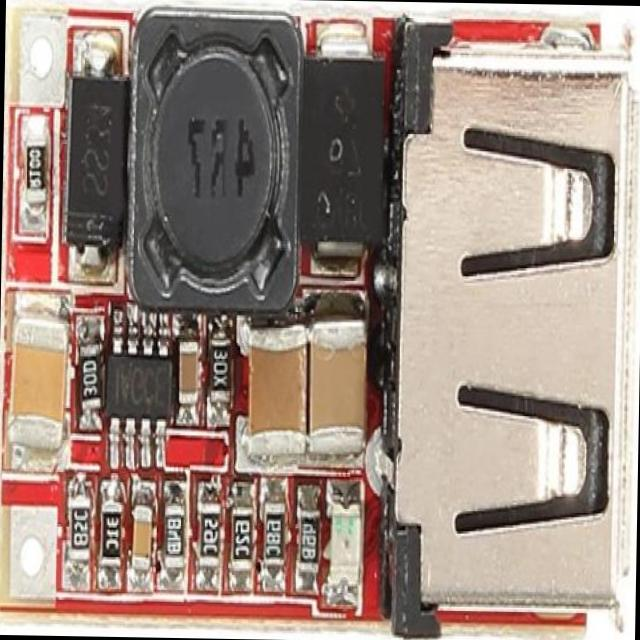IC: (104, 332, 172, 446)
LED: (326, 498, 366, 594)
capacitor: (240, 319, 312, 462), (5, 312, 69, 448), (308, 310, 366, 450), (177, 338, 200, 413), (130, 503, 150, 578)
connector: (378, 51, 638, 636)
diode: (298, 38, 386, 260), (60, 59, 129, 256)
resistor: (72, 335, 103, 417), (162, 493, 190, 578), (227, 492, 254, 578), (294, 507, 322, 582), (204, 333, 233, 404), (21, 138, 49, 208), (99, 489, 123, 568), (68, 494, 92, 570), (262, 499, 286, 574), (198, 495, 222, 566)
